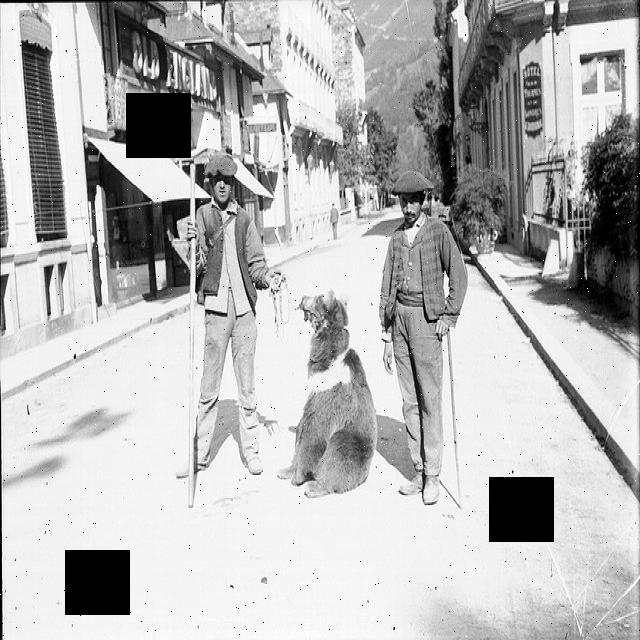Bear: (289, 276, 378, 502)
